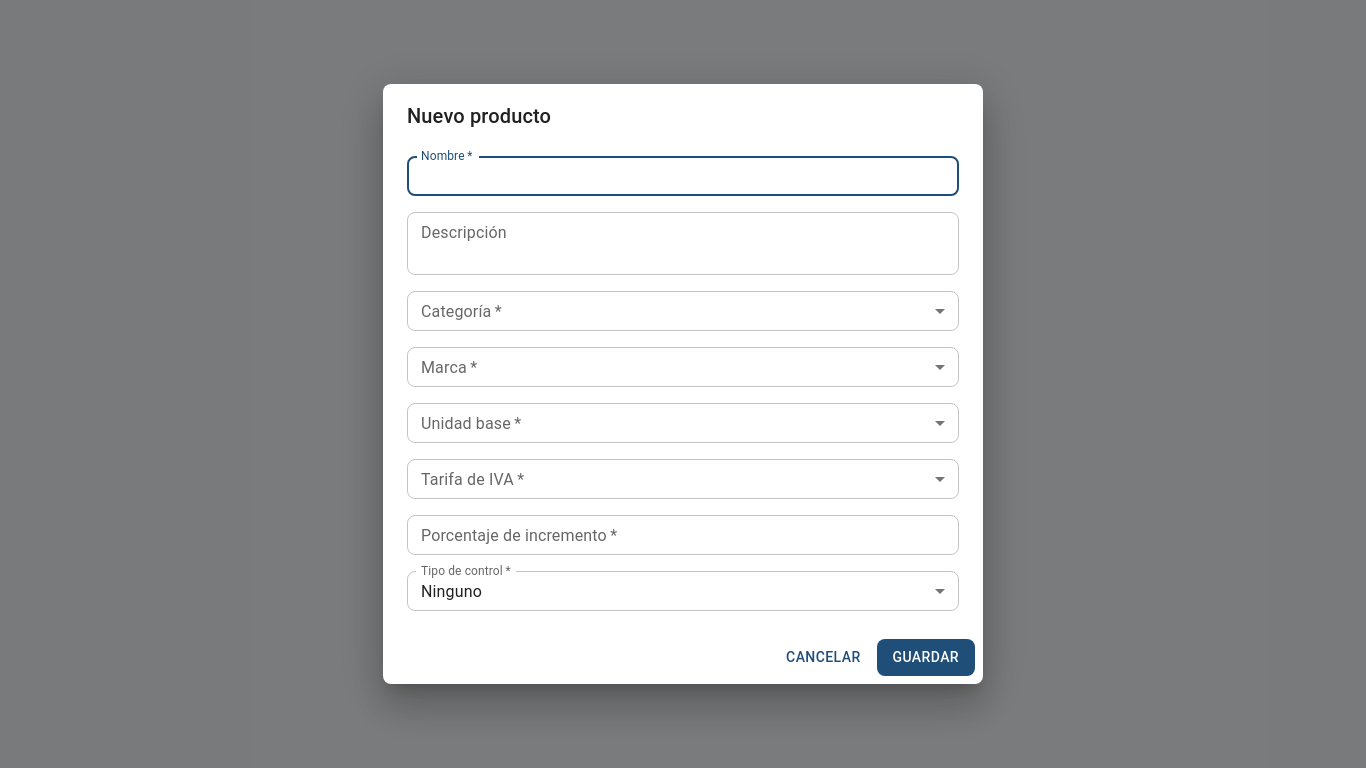
it: ProductoFormDialog › llena los selectores con los endpoints de catálogo
What coordinates should you click on to do the following:
click the dropdown with test id "producto-campo-categoria"
I would click on:
 (683, 311)
Its box is x1=407 y1=291 x2=959 y2=331.
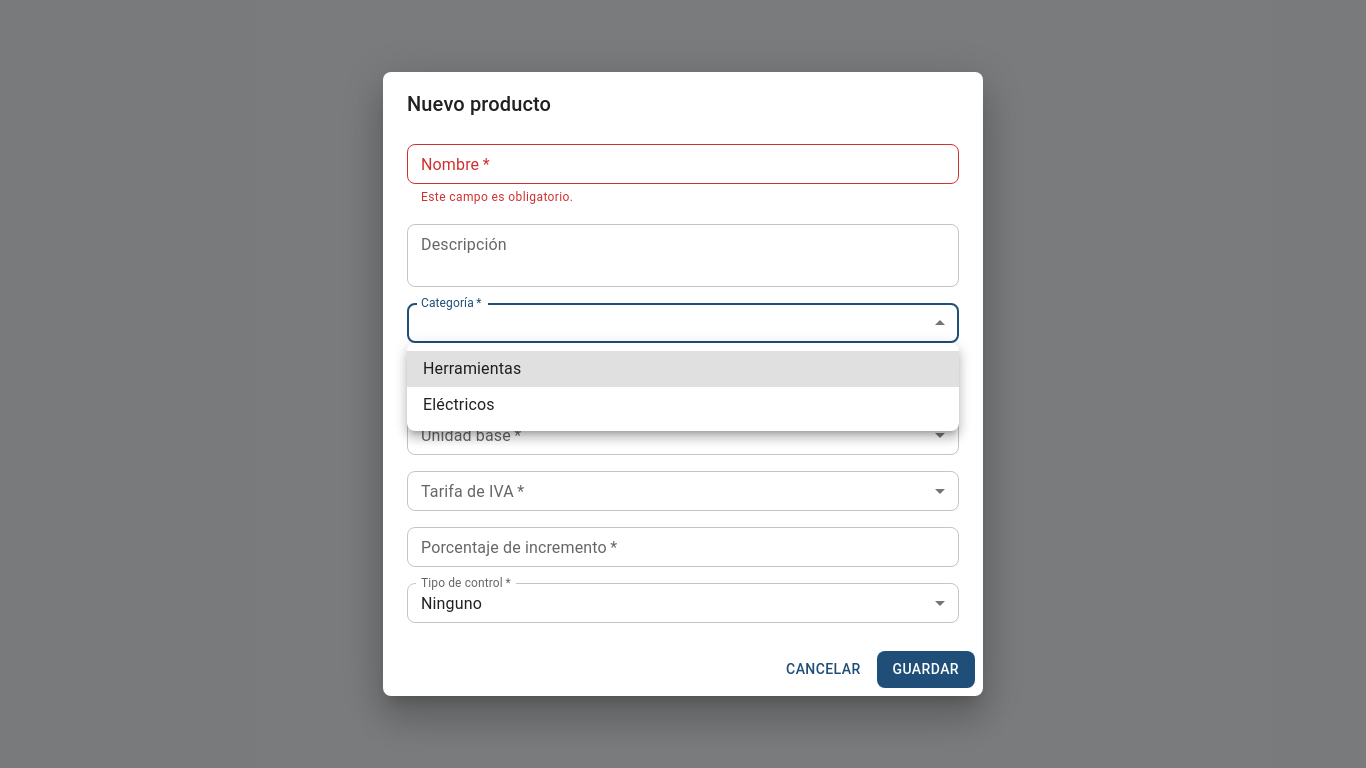
Result: the options read "Herramientas", "Eléctricos", in this order at x1=407 y1=351 x2=959 y2=387; x1=423 y1=395 x2=495 y2=414
